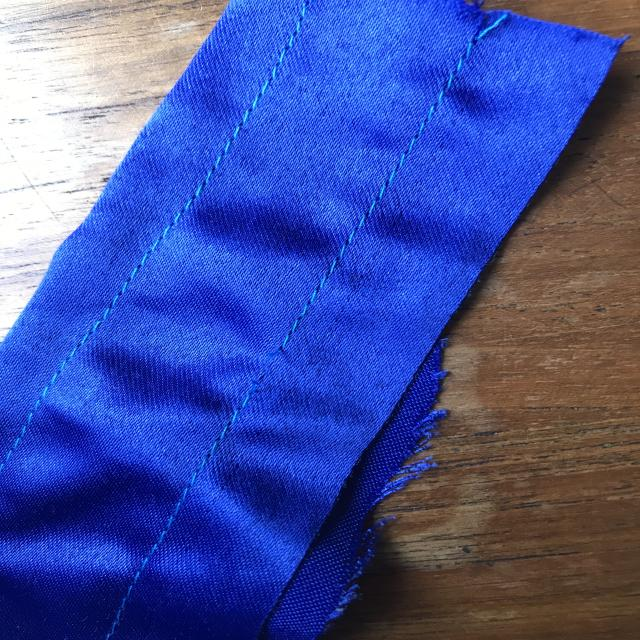broken: (238, 321, 306, 418)
